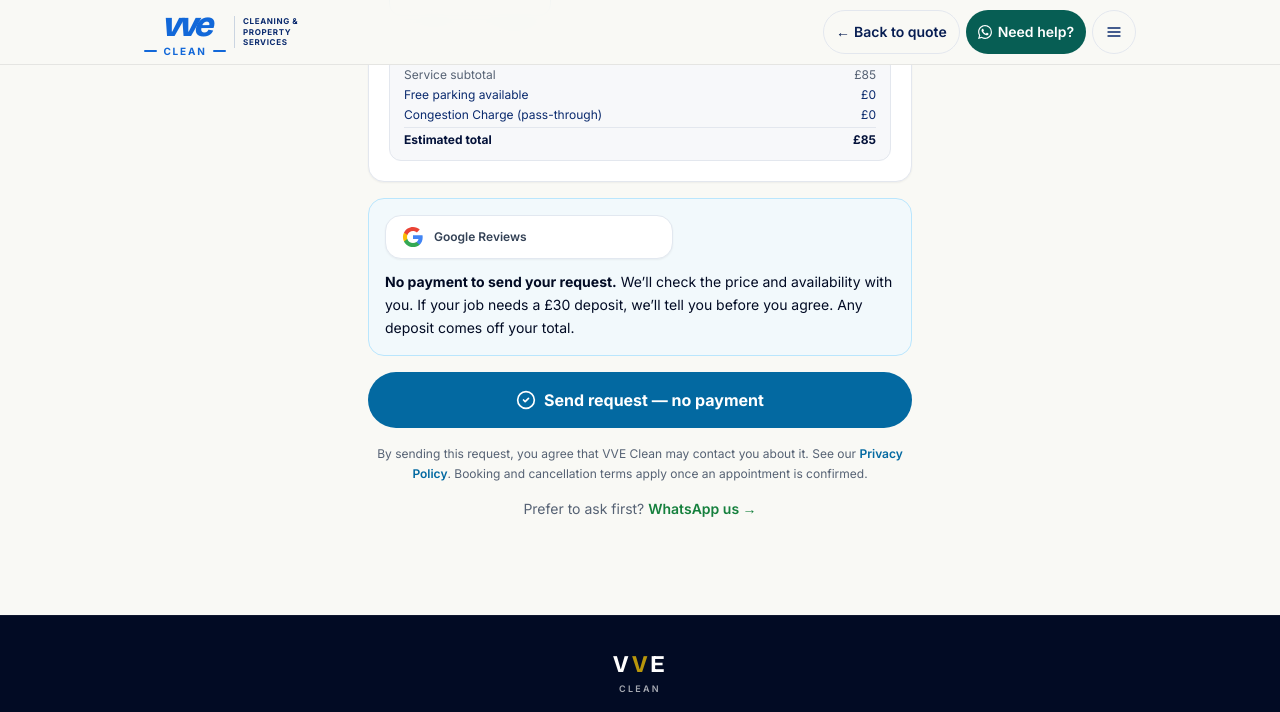
booking acknowledgement and request validation › still shows success when acknowledgement storage is blocked
The image size is (1280, 712).
(page scrolled)
Click the button "Send request — no payment": (640, 400) [368,372,912,428]
(page scrolled)
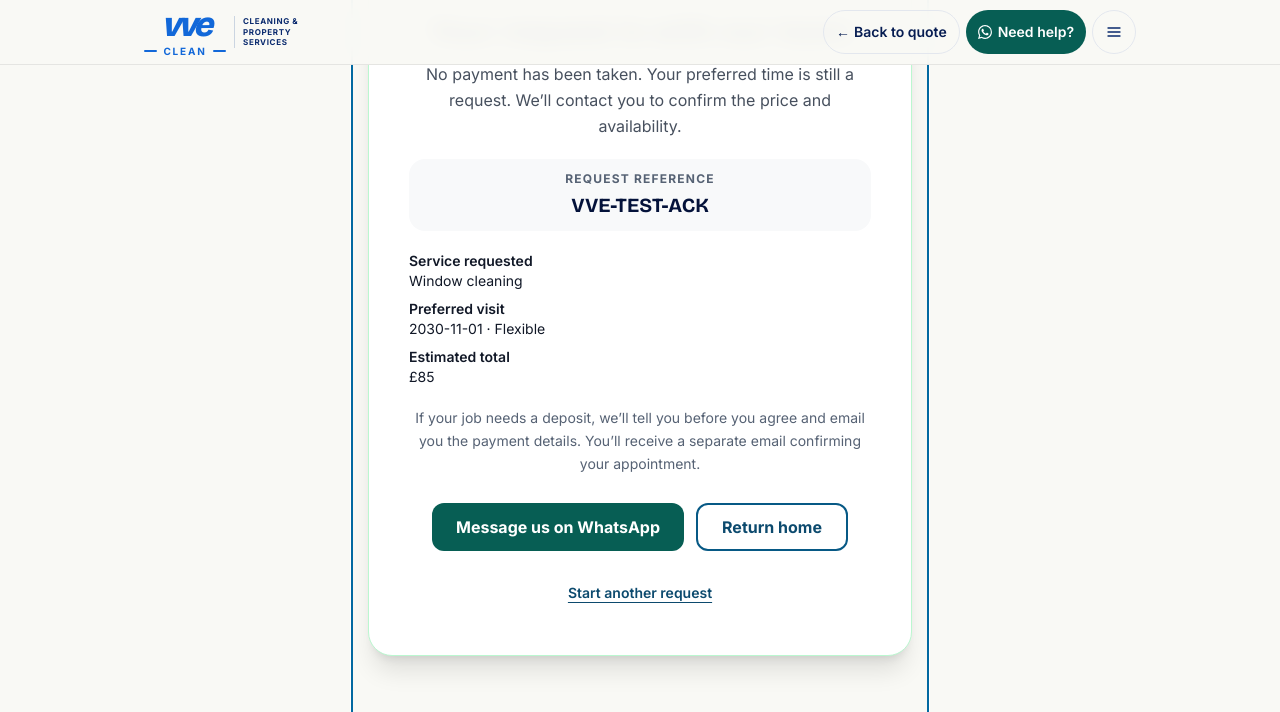
Check: the text "VVE-TEST-ACK" is shown, box [571,193,709,217]
